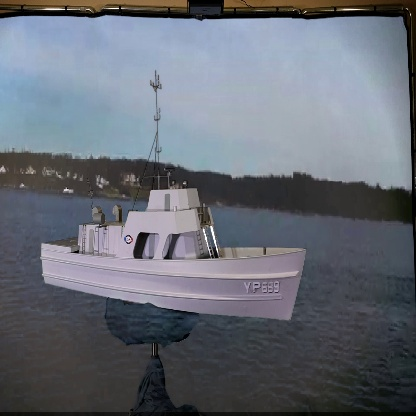YP689: (35, 69, 308, 324)
